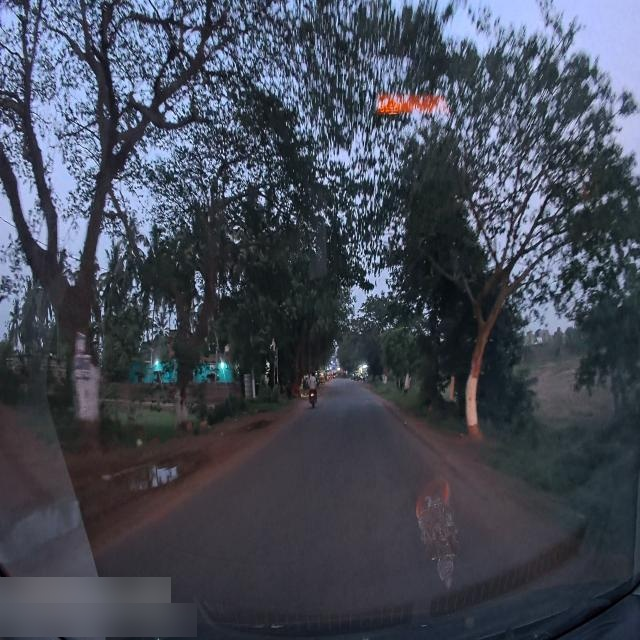pothole: (0, 462, 178, 568)
